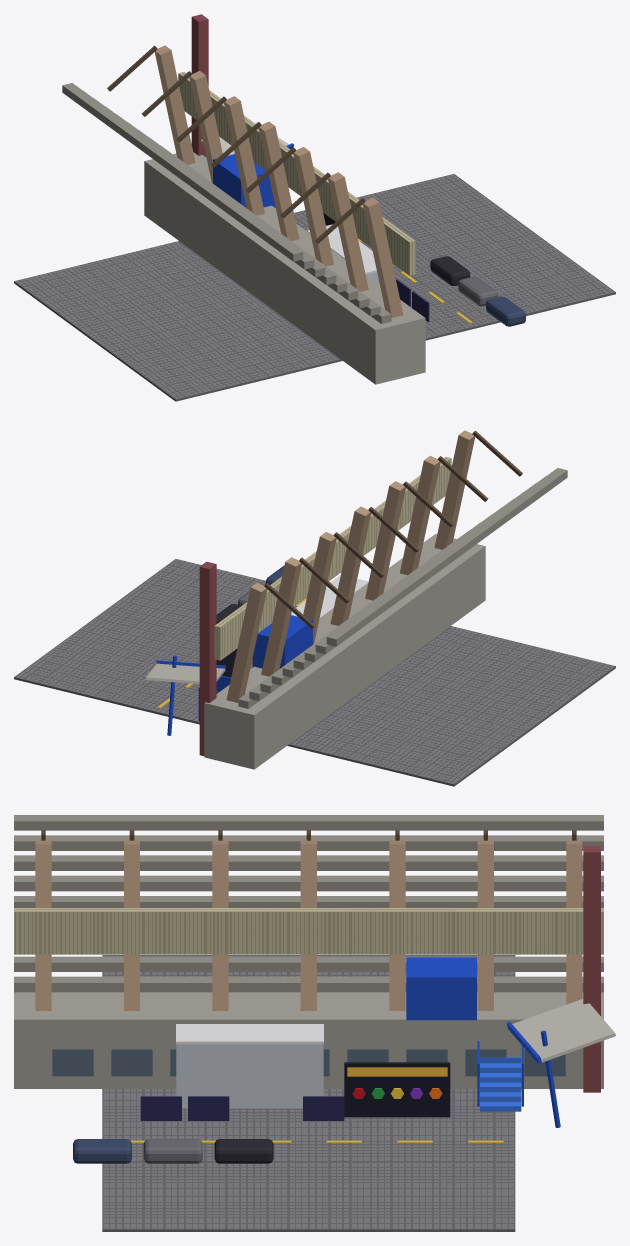
File: decor_meinau_ext.glb
3 views of the same model, one above another, from view 1: azimuth 30°, elevation 25°; view 2: azimuth 150°, elevation 25°; view 3: azimuth 270°, elevation 25° (orthographic). The views are drawn at different scales.
Parts seen in each view (by area): view 1: p_box, p_box.007, p_box.029, p_box.028, p_box.030, p_box.032, p_box.034, p_box.036, p_box.042, p_box.038, p_box.040, p_box.019 (+5 smaller); view 2: p_box, p_box.007, p_box.029, p_box.028, p_box.044, p_box.042, p_box.040, p_box.030, p_box.032, p_box.036, p_box.034, p_box.038 (+3 smaller); view 3: p_box, p_box.007, p_box.029, p_box.028, p_box.017, p_box.027, p_box.025, p_box.026, p_box.020, p_box.021, p_box.024, p_box.057 (+24 smaller).
Part boxes in pixels (<box>): p_box: <box>14,174,615,401</box>; p_box.007: <box>144,152,425,384</box>; p_box.029: <box>178,72,415,275</box>; p_box.028: <box>62,83,303,261</box>; p_box.030: <box>362,198,403,317</box>; p_box.032: <box>328,172,368,291</box>; p_box.034: <box>293,147,334,266</box>; p_box.036: <box>258,121,299,240</box>; p_box.042: <box>154,45,195,164</box>; p_box.038: <box>224,96,264,215</box>; p_box.040: <box>189,71,222,183</box>; p_box.019: <box>213,154,272,207</box>; p_box: <box>14,559,615,786</box>; p_box.007: <box>204,534,485,769</box>; p_box.029: <box>214,456,451,660</box>; p_box.028: <box>326,468,567,646</box>; p_box.044: <box>199,561,216,755</box>; p_box.042: <box>226,582,267,702</box>; p_box.040: <box>261,557,301,676</box>; p_box.030: <box>434,430,475,549</box>; p_box.032: <box>400,455,440,575</box>; p_box.036: <box>330,506,371,625</box>; p_box.034: <box>365,481,405,600</box>; p_box.038: <box>303,532,336,644</box>; p_box: <box>102,955,515,1231</box>; p_box.007: <box>14,992,603,1088</box>; p_box.029: <box>14,908,603,954</box>; p_box.028: <box>14,815,603,830</box>; p_box.017: <box>176,1044,323,1108</box>; p_box.027: <box>14,835,603,850</box>; p_box.025: <box>14,875,603,891</box>; p_box.026: <box>14,855,603,870</box>; p_box.020: <box>14,976,603,992</box>; p_box.021: <box>14,956,603,971</box>; p_box.024: <box>14,896,603,907</box>; p_box.057: <box>344,1062,450,1117</box>.
Size of the model in its own units: 22 by 9.2 by 20.41.
25 materials, 2 textured.
